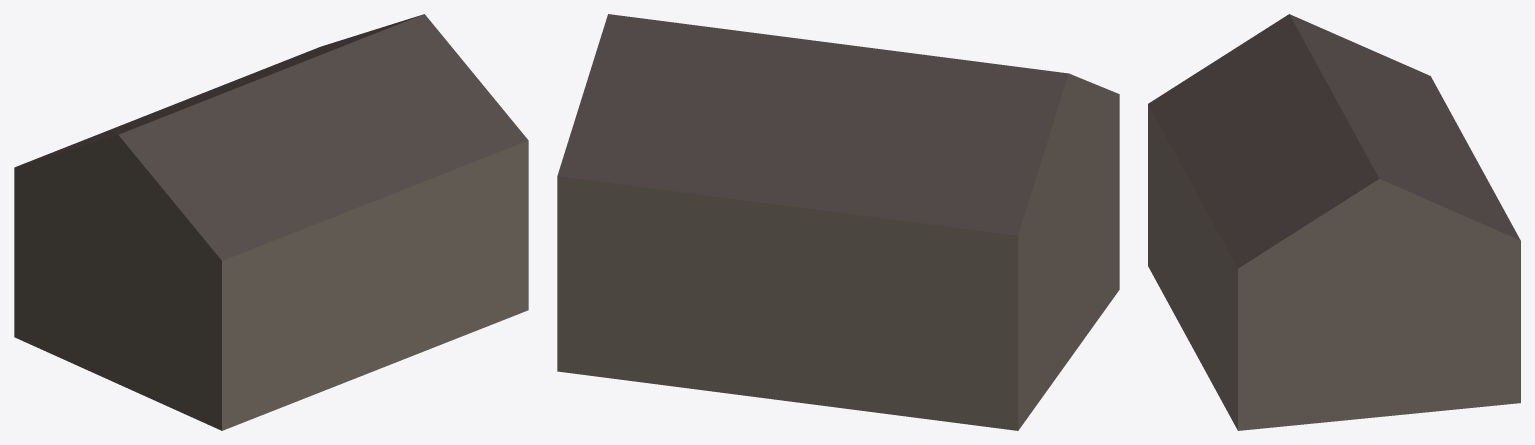
The picture shows the model from 3 angles, left to right: view 1: azimuth 30°, elevation 25°; view 2: azimuth 150°, elevation 25°; view 3: azimuth 270°, elevation 25°; orthographic projection. The views are drawn at different scales.
Visible parts, largest first — view 1: HP-w369317542; view 2: HP-w369317542; view 3: HP-w369317542.
Part boxes in pixels (<box>): HP-w369317542: <box>14,14,528,430</box>; HP-w369317542: <box>557,14,1119,430</box>; HP-w369317542: <box>1148,14,1520,430</box>.
Size of the model in its own units: 22.93 by 13.22 by 18.75.
